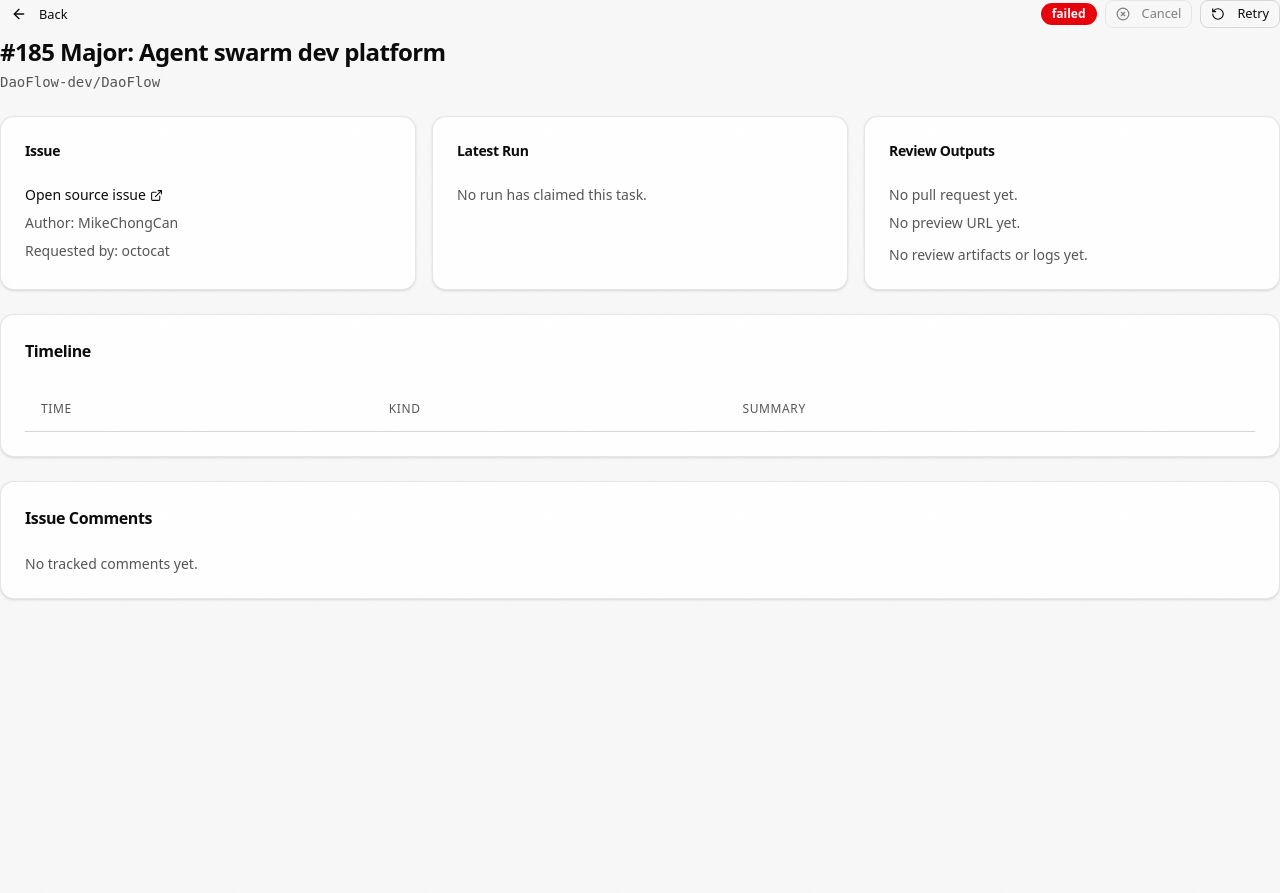
Test case: DevelopmentTaskDetailPage › retries a failed development task
The image size is (1280, 893).
Click the button "Retry" at (1240, 14), box [1200,0,1279,28]
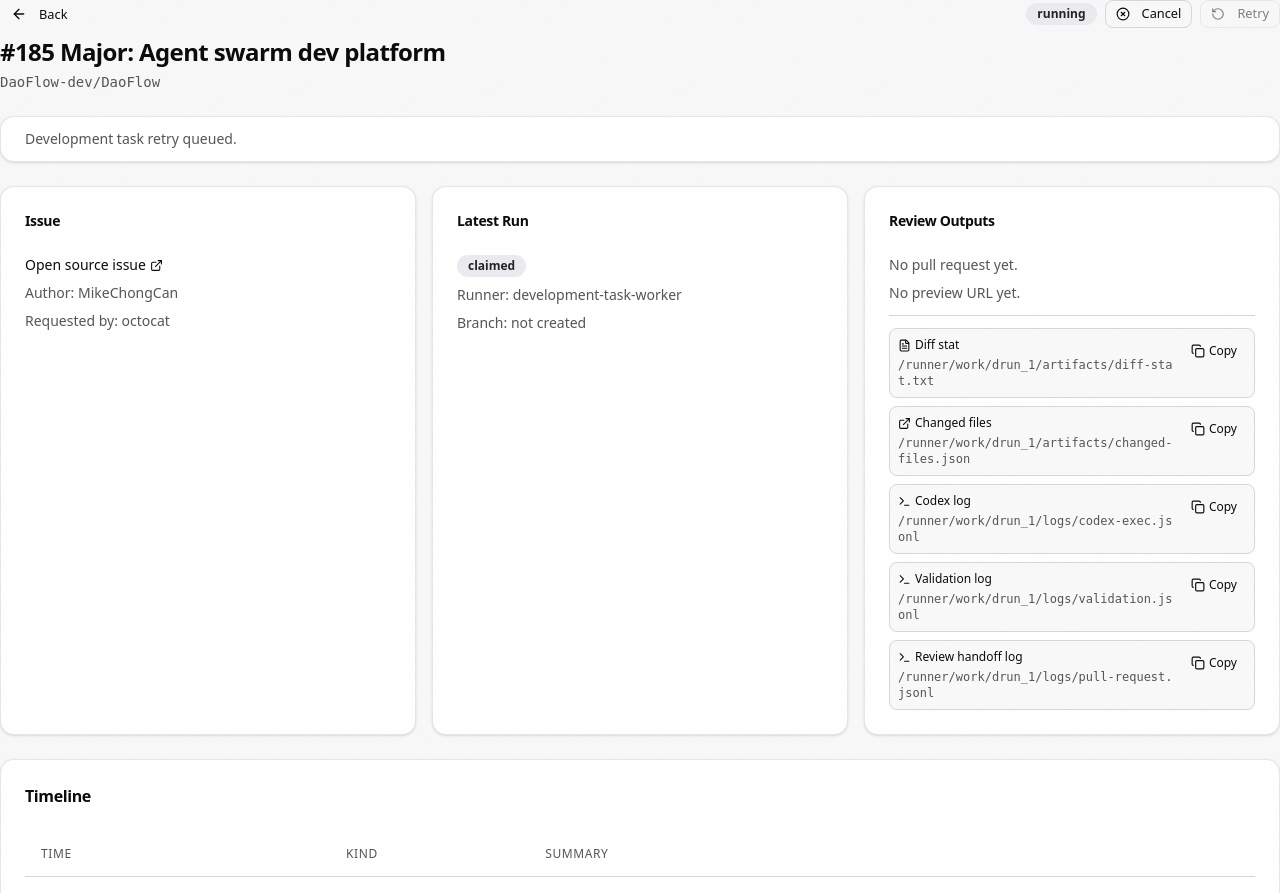
Result: the text "Development task retry queued." is shown at [25,129,237,148]
